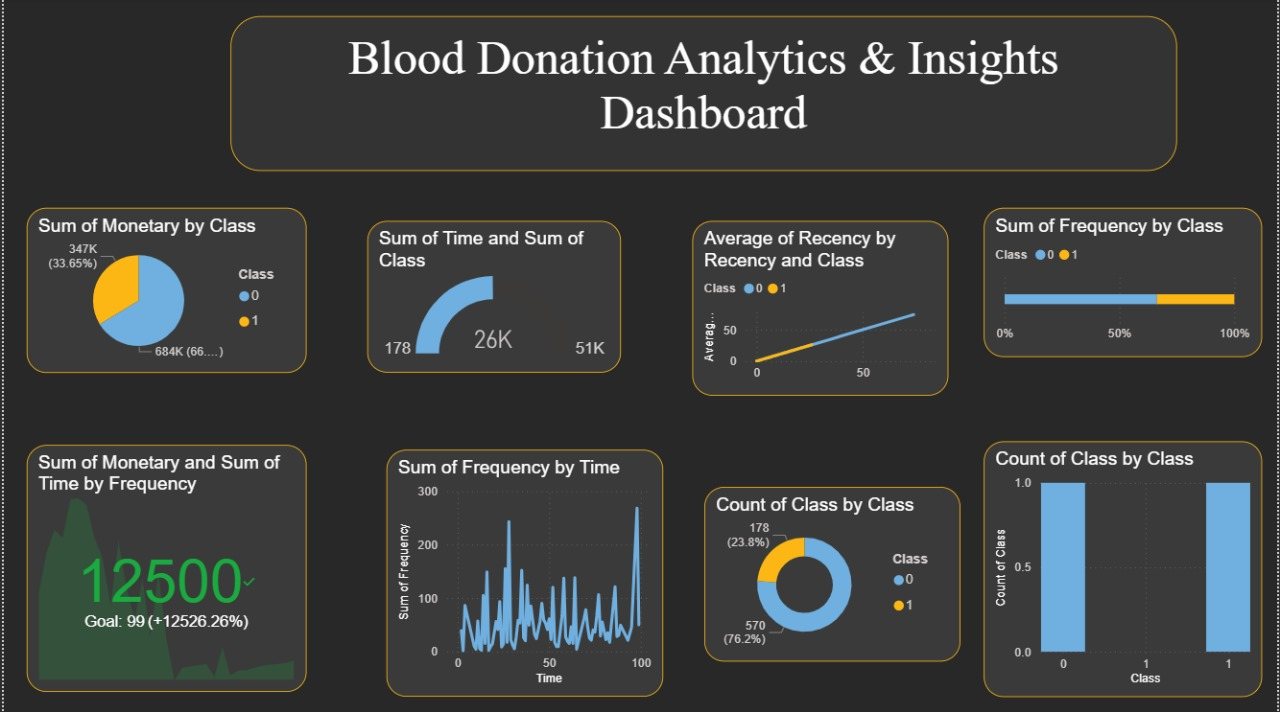

Layout of this report page (visuals, bound fields, positions):
{"tool":"powerbi","page":{"name":"Page 1","canvas":[1280,720],"ordinal":0},"visuals":[{"type":"clusteredColumnChart","fields":{"Category":["blood (1).Class"],"Y":["Count(blood (1).Class)"]},"box":[986.2,446.2,280,257.5],"z":0},{"type":"hundredPercentStackedBarChart","fields":{"Series":["blood (1).Class"],"Y":["Sum(blood (1).Frequency)"]},"box":[986.2,211.2,280,150],"z":1000},{"type":"pieChart","fields":{"Category":["blood (1).Class"],"Y":["Sum(blood (1).Monetary)"]},"box":[22.5,211.2,281.2,166.2],"z":2000},{"type":"lineChart","fields":{"Category":["blood (1).Time"],"Y":["Sum(blood (1).Frequency)"]},"box":[385,455,278.8,248.8],"z":3000},{"type":"donutChart","fields":{"Y":["CountNonNull(blood (1).Class)"],"Category":["blood (1).Class"]},"box":[705,492.5,257.5,176.2],"z":4000},{"type":"lineChart","fields":{"Y":["Avg(blood (1).Recency)"],"Category":["blood (1).Recency"],"Series":["blood (1).Class"]},"box":[692.5,225,257.5,176.2],"z":5000},{"type":"gauge","fields":{"MinValue":["Sum(blood (1).Class)"],"Y":["Sum(blood (1).Time)"]},"box":[365,225,255,152.5],"z":7000},{"type":"kpi","fields":{"Indicator":["Sum(blood (1).Monetary)"],"Goal":["Sum(blood (1).Time)"],"TrendLine":["blood (1).Frequency"]},"box":[22.5,450,281.2,248.8],"z":8000},{"type":"textbox","box":[228,18.1,951.9,155.6],"z":9000}]}

Visuals, with their boxes in screenshot pixels (x1, y1, x2, y2), scaled from the page's 1280x720 canvas onto the 1280x712 screenshot:
clusteredColumnChart - blood (1).Class x Count(blood (1).Class): BBox(986, 441, 1266, 696)
hundredPercentStackedBarChart - blood (1).Class x Sum(blood (1).Frequency): BBox(986, 209, 1266, 357)
pieChart - blood (1).Class x Sum(blood (1).Monetary): BBox(22, 209, 304, 373)
lineChart - blood (1).Time x Sum(blood (1).Frequency): BBox(385, 450, 664, 696)
donutChart - CountNonNull(blood (1).Class) x blood (1).Class: BBox(705, 487, 962, 661)
lineChart - Avg(blood (1).Recency) x blood (1).Recency: BBox(692, 222, 950, 397)
gauge - Sum(blood (1).Class) x Sum(blood (1).Time): BBox(365, 222, 620, 373)
kpi - Sum(blood (1).Monetary) x Sum(blood (1).Time): BBox(22, 445, 304, 691)
textbox: BBox(228, 18, 1180, 172)
